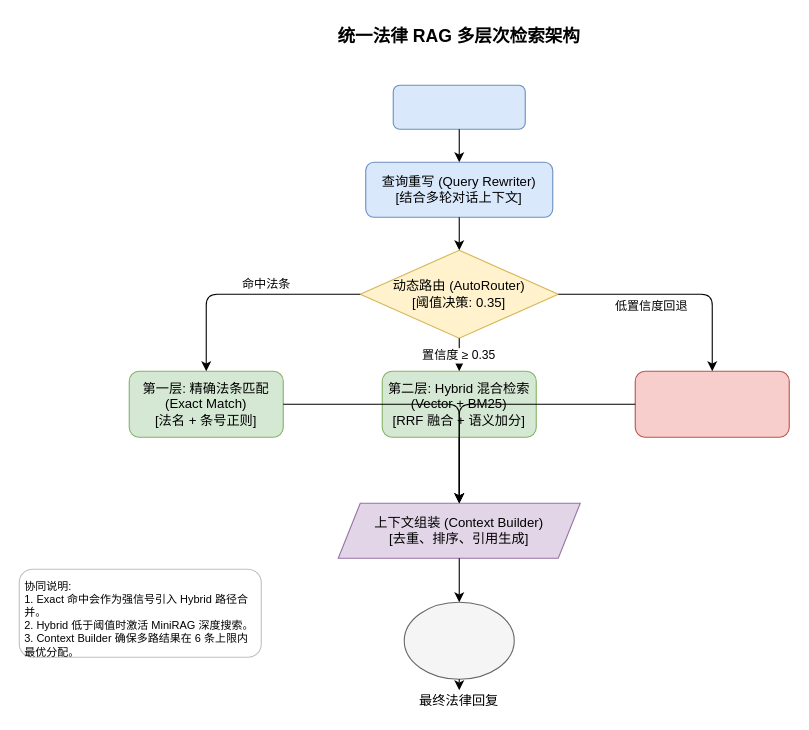
Image size: 809x730. Some labels were removed from this diagram. The centre of each missing label's shape, as x and y in pixels:
大语言模型 (LLM) [角色扮演、流式生成]: (458,640)
用户输入 (User Query): (458,106)
第三层: MiniRAG 图检索 (Graph Retrieval) [复杂语义/长程关联]: (711,403)
